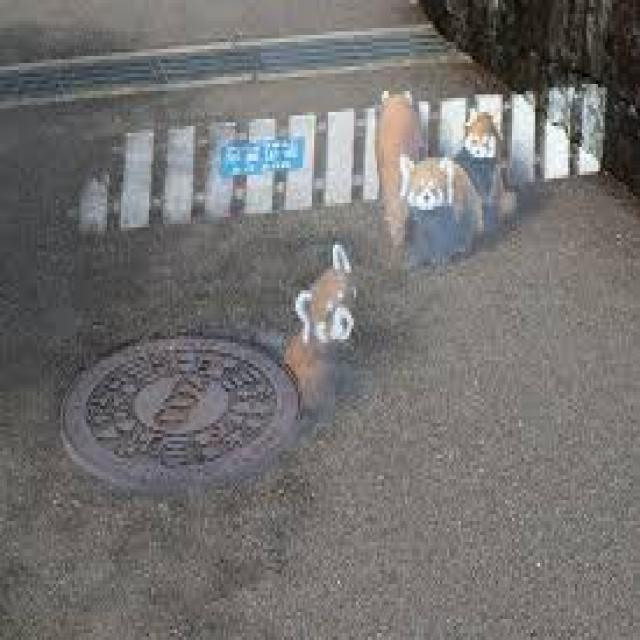manhole: (60, 335, 297, 496)
